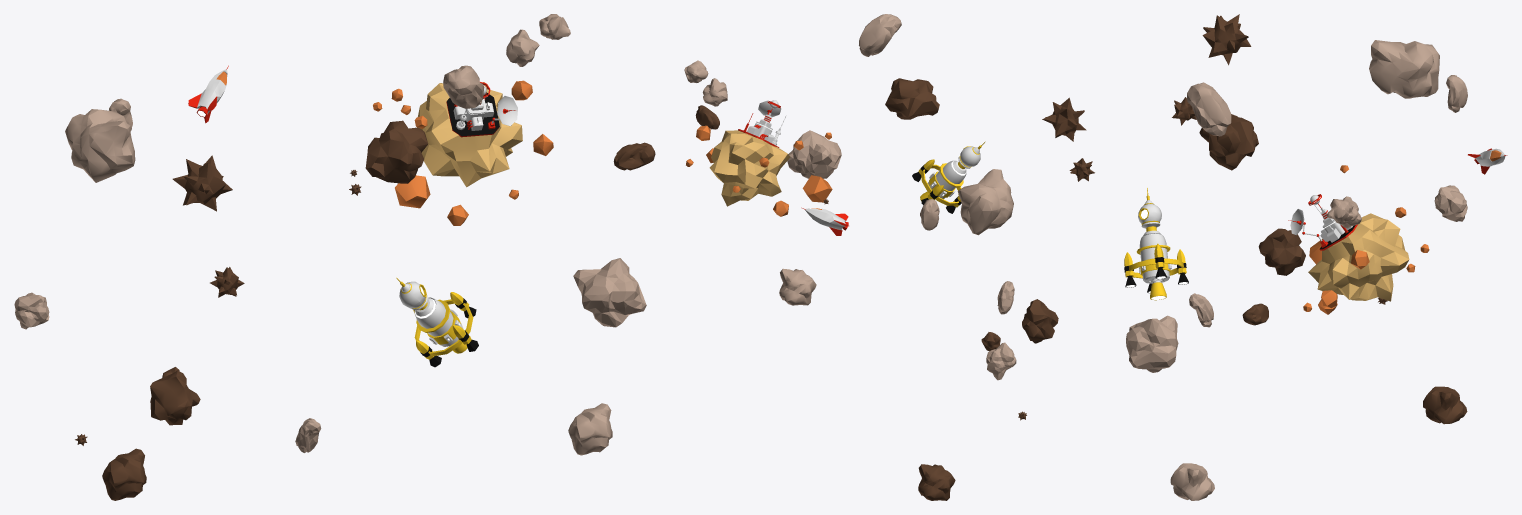
Rendered from space-3d.glb.
3 renders of one model, left to right at view 1: azimuth 30°, elevation 25°; view 2: azimuth 150°, elevation 25°; view 3: azimuth 270°, elevation 25°, orthographic. The views are drawn at different scales.
Parts seen in each view (by area): view 1: Asteroid Large, Asteroid #3 2, Asteroid #3, Asteroid #4 1, Rocks, Asteroid #4, Asteroid #3 3, Asteroid #3 4, Asteroid #1 1, Monocoque, Asteroid #2 3, Frames (+4 smaller); view 2: Asteroid Large, Asteroid #3 2, Asteroid #3, Asteroid #4 1, Rocks, Asteroid #2 3, Asteroid #4, Asteroid #3 3, Asteroid #3 4, Monocoque, Asteroid #1 1, Asteroid #3 1 (+4 smaller); view 3: Asteroid Large, Asteroid #3 2, Asteroid #3, Asteroid #4 1, Asteroid #2 3, Asteroid #4, Asteroid #1 1, Monocoque, Asteroid #3 3, Asteroid #3 4, Rocks, Frames (+6 smaller).
Part boxes in pixels (bbox=[...]): Asteroid Large: bbox=[417, 83, 522, 187]; Asteroid #3 2: bbox=[65, 109, 135, 182]; Asteroid #3: bbox=[573, 258, 646, 327]; Asteroid #4 1: bbox=[365, 120, 428, 183]; Rocks: bbox=[373, 80, 553, 225]; Asteroid #4: bbox=[150, 370, 200, 425]; Asteroid #3 3: bbox=[568, 403, 612, 455]; Asteroid #3 4: bbox=[102, 448, 146, 500]; Asteroid #1 1: bbox=[172, 155, 232, 211]; Monocoque: bbox=[399, 281, 463, 346]; Asteroid #2 3: bbox=[443, 65, 484, 108]; Frames: bbox=[396, 277, 473, 356]; Asteroid Large: bbox=[709, 130, 790, 206]; Asteroid #3 2: bbox=[957, 169, 1013, 235]; Asteroid #3: bbox=[787, 130, 841, 178]; Asteroid #4 1: bbox=[885, 78, 939, 119]; Rocks: bbox=[686, 125, 832, 216]; Asteroid #2 3: bbox=[859, 14, 901, 56]; Asteroid #4: bbox=[1022, 299, 1058, 343]; Asteroid #3 3: bbox=[779, 268, 816, 305]; Asteroid #3 4: bbox=[918, 464, 955, 500]; Monocoque: bbox=[927, 146, 980, 199]; Asteroid #1 1: bbox=[1042, 97, 1086, 141]; Asteroid #3 1: bbox=[986, 342, 1016, 380]; Asteroid Large: bbox=[1308, 213, 1409, 301]; Asteroid #3 2: bbox=[1369, 40, 1439, 98]; Asteroid #3: bbox=[1126, 315, 1178, 372]; Asteroid #4 1: bbox=[1199, 114, 1258, 170]; Asteroid #2 3: bbox=[1187, 82, 1231, 136]; Asteroid #4: bbox=[1258, 228, 1305, 275]; Asteroid #1 1: bbox=[1202, 14, 1251, 65]; Monocoque: bbox=[1138, 200, 1171, 283]; Asteroid #3 3: bbox=[1170, 463, 1214, 500]; Asteroid #3 4: bbox=[1423, 386, 1467, 424]; Rocks: bbox=[1303, 165, 1429, 314]; Frames: bbox=[1129, 188, 1183, 300].
Bounding box in the file's own units: 0.3368 × 0.2943 × 0.241.
